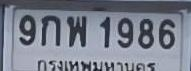1: (99, 16, 109, 47)
6: (158, 18, 174, 48)
8: (137, 18, 153, 48)
9: (18, 14, 35, 44), (117, 17, 132, 47)
A01: (40, 14, 60, 45)
A30: (66, 15, 86, 46)
BKK: (36, 57, 158, 71)
